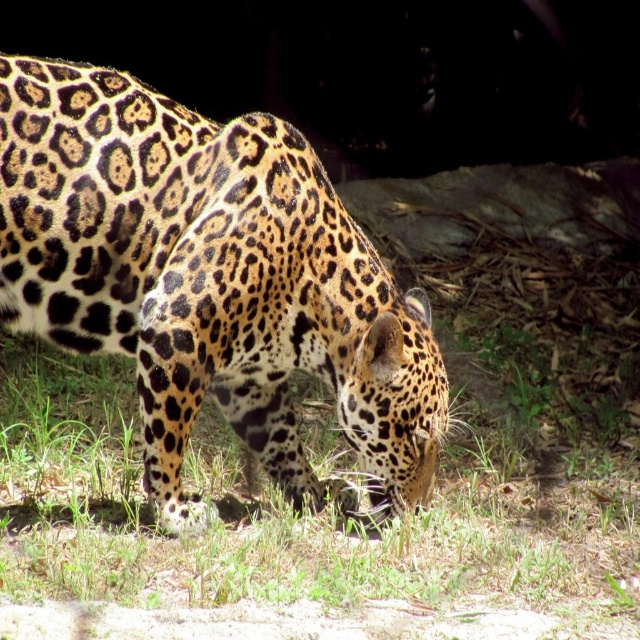Cheetah: (0, 52, 477, 538)
